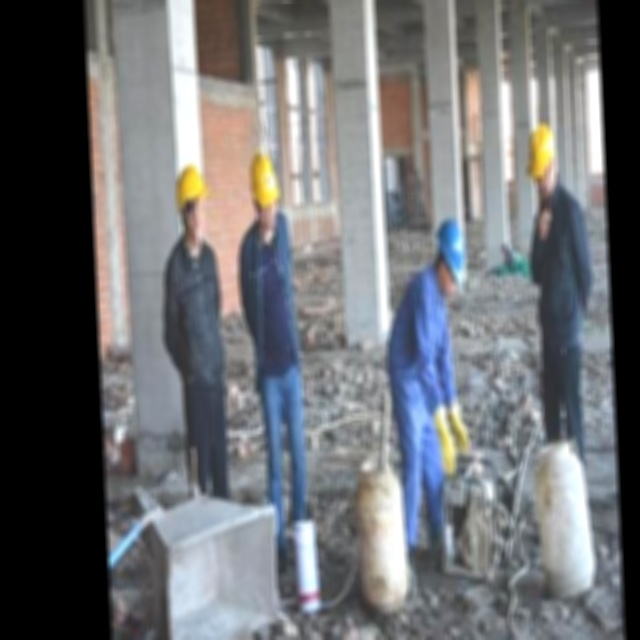Con_Casco: (432, 221, 469, 292), (249, 148, 278, 219)
Sin_Chaleco: (165, 243, 222, 383)
